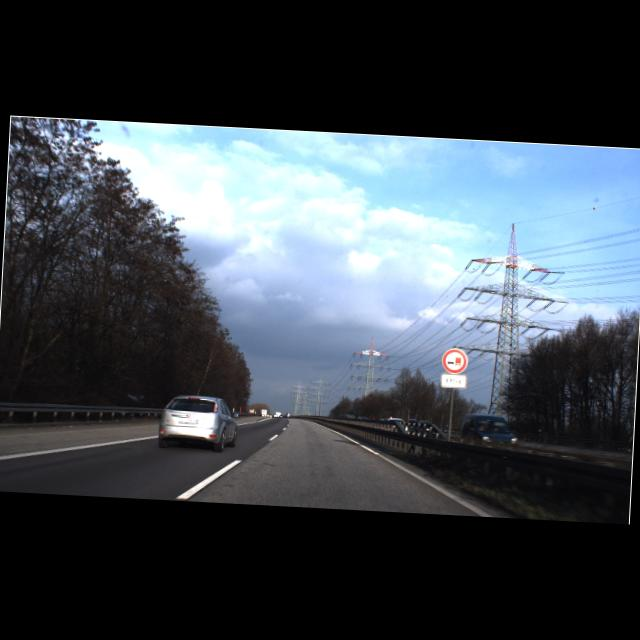prohibitory: (442, 348, 468, 374)
